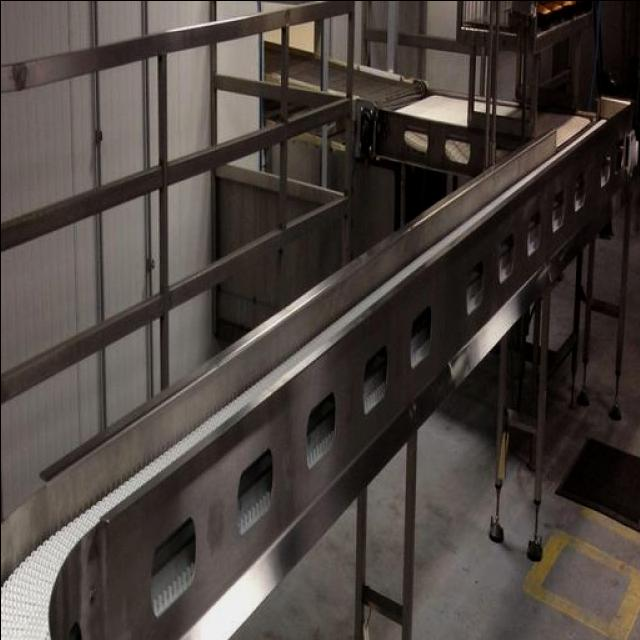conveyor: (0, 32, 602, 640)
